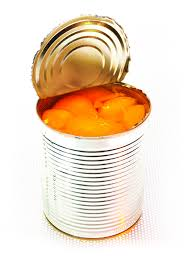can: (28, 11, 155, 243)
